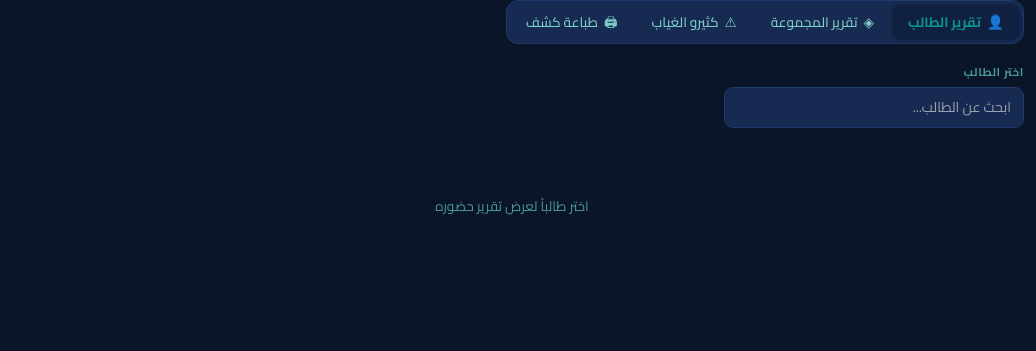
AttendanceReports — "كثيرو الغياب" tab uses the scoped/aggregate GET (C4 Attendance migration Phase 2) › changing the threshold re-filters the already-fetched list with zero additional requests (FR-009)
Click the button "⚠ كثيرو الغياب" at [694, 22], box [636,4,753,40]
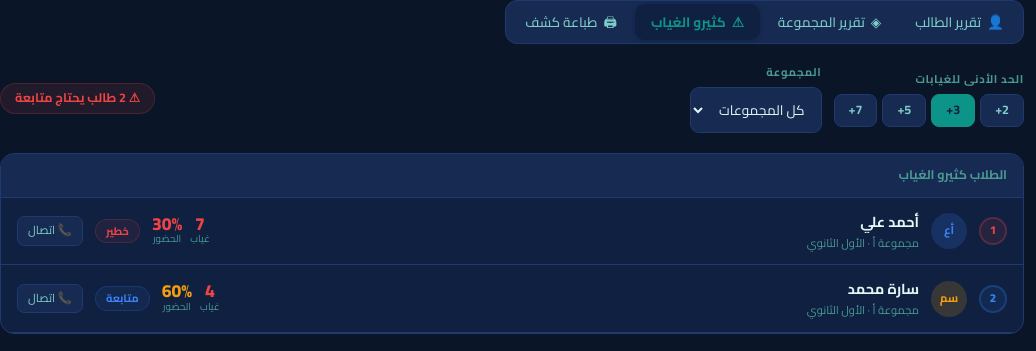
Check: the text "أحمد علي" is shown, box [860,208,919,235]
Check: the text "سارة محمد" is shown, box [848,275,919,302]
Click the button "5+" at [904, 110], box [882,94,926,126]
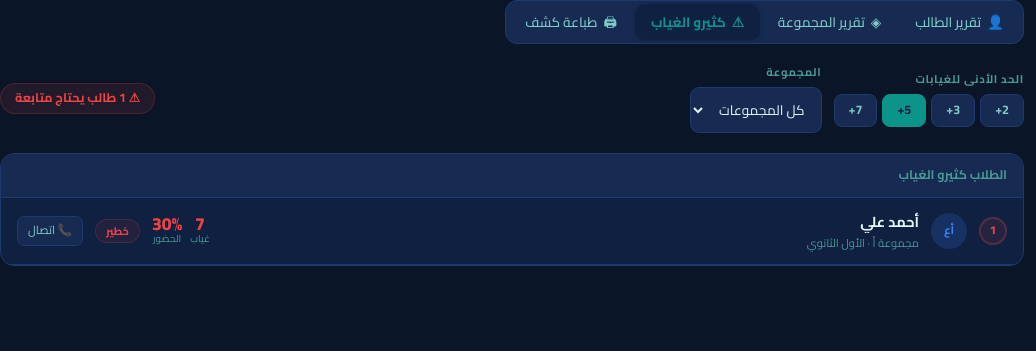
Check: the text "أحمد علي" is shown, box [860,208,919,235]
Check: the text "سارة محمد" is gone
